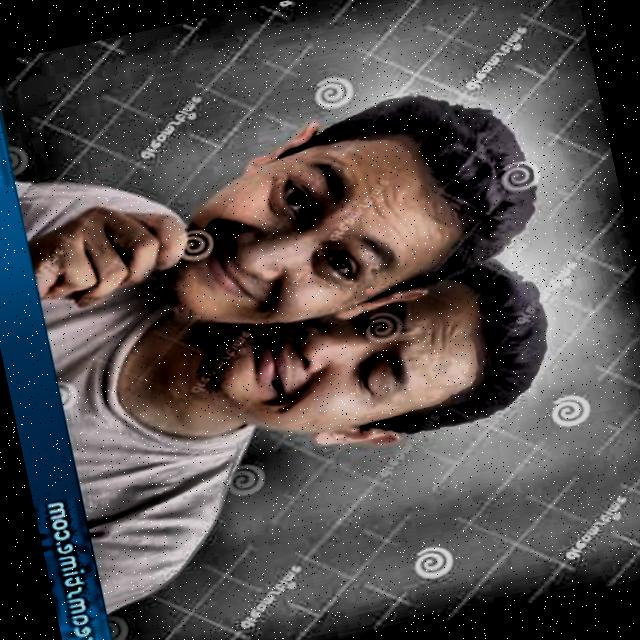happy: (128, 60, 545, 363)
sad: (189, 233, 560, 487)
